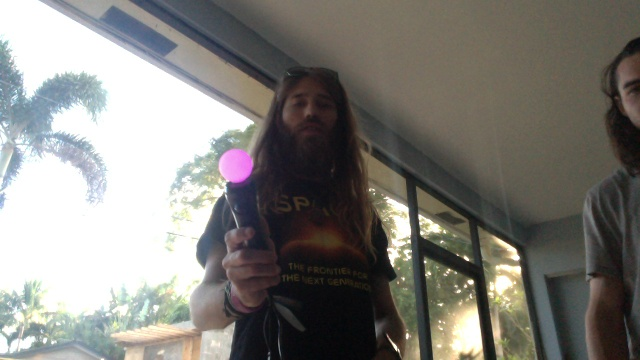wand: (219, 149, 254, 184)
